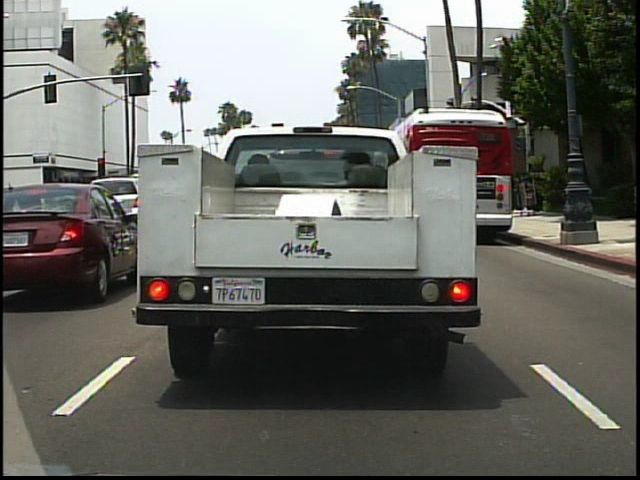person: (34, 194, 56, 238), (22, 197, 42, 232)
